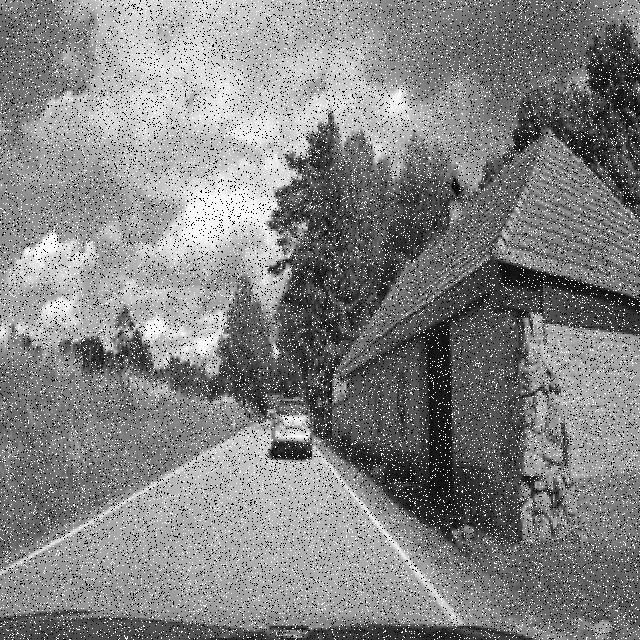clear-road: (0, 426, 449, 630)
